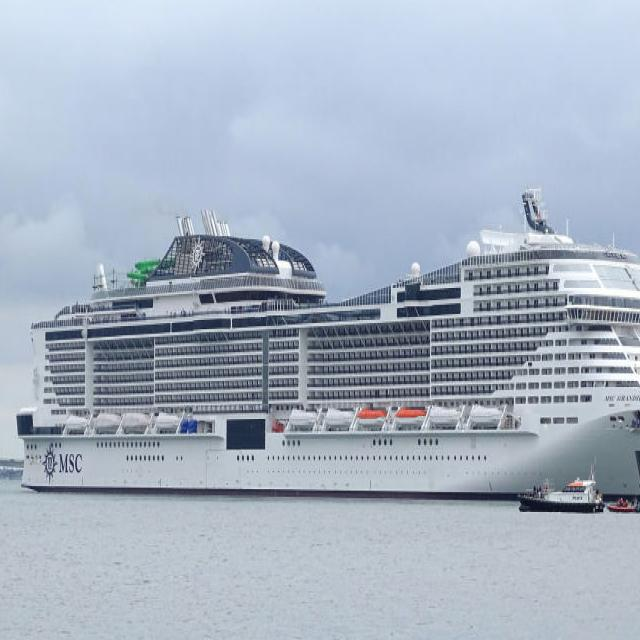cruises: (14, 178, 640, 504)
